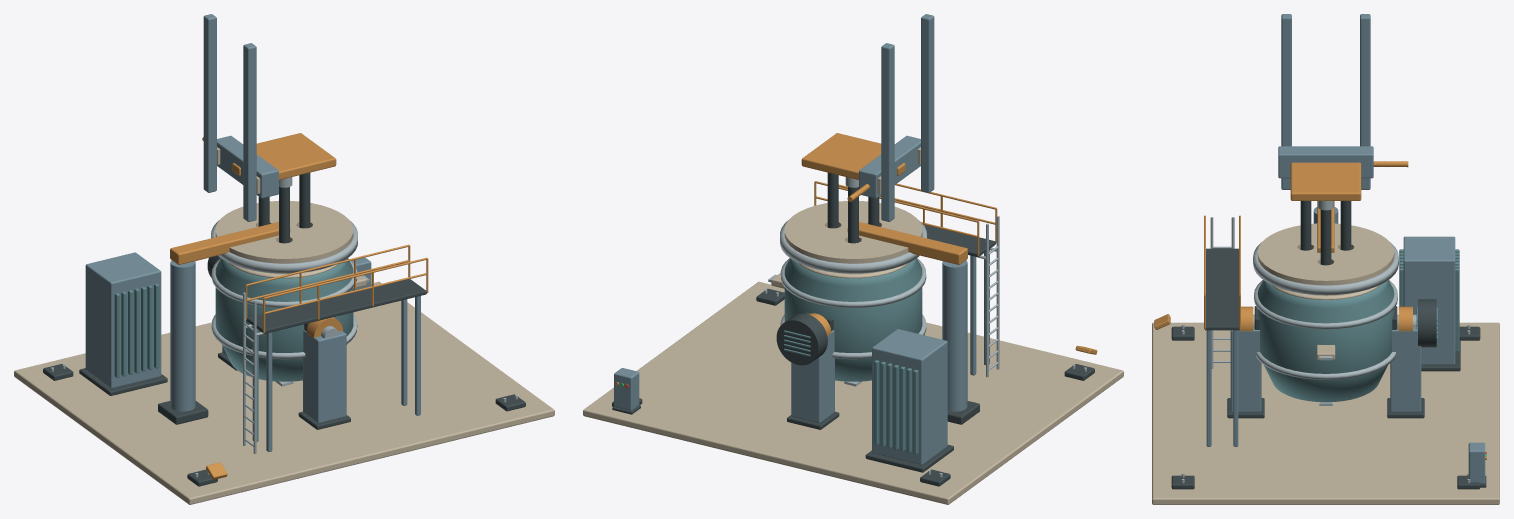
File: STS-HR-02-lod0.glb
3 views of the same model, side by side, from view 1: azimuth 30°, elevation 25°; view 2: azimuth 150°, elevation 25°; view 3: azimuth 270°, elevation 25° (orthographic).
Parts seen in each view (by area): view 1: foundation, refractory_vessel, transformer_cabinet, roof_shell, roof_pivot_column, far_pedestal, eaf_service_deck, roof_electrode_guide_0.95, roof_electrode_guide_-0.95, electrode_carrier, roof_swing_arm, electrode_slide_carriage (+11 smaller); view 2: foundation, refractory_vessel, transformer_cabinet, roof_shell, roof_pivot_column, near_pedestal, roof_electrode_guide_-0.95, roof_electrode_guide_0.95, electrode_carrier, tilt_gearbox, roof_swing_arm, roof_water_jacket (+7 smaller); view 3: foundation, refractory_vessel, roof_shell, transformer_cabinet, electrode_carrier, eaf_service_deck, near_pedestal, far_pedestal, electrode_slide_carriage, roof_water_jacket, roof_electrode_guide_-0.95, roof_electrode_guide_0.95 (+11 smaller).
Part boxes in pixels (left/top/right/bottom): foundation: left=14, top=281, right=554, bottom=504; refractory_vessel: left=215, top=258, right=353, bottom=381; transformer_cabinet: left=85, top=252, right=161, bottom=388; roof_shell: left=215, top=201, right=353, bottom=263; roof_pivot_column: left=170, top=260, right=195, bottom=411; far_pedestal: left=303, top=330, right=346, bottom=423; eaf_service_deck: left=246, top=279, right=426, bottom=333; roof_electrode_guide_0.95: left=243, top=43, right=256, bottom=221; roof_electrode_guide_-0.95: left=203, top=14, right=216, bottom=192; electrode_carrier: left=256, top=133, right=336, bottom=179; roof_swing_arm: left=170, top=222, right=290, bottom=264; electrode_slide_carriage: left=217, top=135, right=278, bottom=198; foundation: left=583, top=281, right=1123, bottom=504; refractory_vessel: left=784, top=258, right=922, bottom=381; transformer_cabinet: left=872, top=329, right=947, bottom=465; roof_shell: left=784, top=201, right=922, bottom=263; roof_pivot_column: left=942, top=260, right=967, bottom=411; near_pedestal: left=791, top=330, right=834, bottom=423; roof_electrode_guide_-0.95: left=881, top=43, right=894, bottom=221; roof_electrode_guide_0.95: left=921, top=14, right=934, bottom=192; electrode_carrier: left=801, top=133, right=881, bottom=179; tilt_gearbox: left=776, top=313, right=827, bottom=365; roof_swing_arm: left=847, top=222, right=967, bottom=264; roof_water_jacket: left=780, top=220, right=926, bottom=273; foundation: left=1152, top=322, right=1499, bottom=504; refractory_vessel: left=1257, top=280, right=1394, bottom=402; roof_shell: left=1257, top=223, right=1394, bottom=285; transformer_cabinet: left=1403, top=236, right=1455, bottom=364; electrode_carrier: left=1290, top=162, right=1361, bottom=200; eaf_service_deck: left=1205, top=248, right=1239, bottom=330; near_pedestal: left=1390, top=327, right=1421, bottom=412; far_pedestal: left=1230, top=327, right=1261, bottom=412; electrode_slide_carriage: left=1278, top=146, right=1373, bottom=178; roof_water_jacket: left=1253, top=242, right=1398, bottom=295; roof_electrode_guide_-0.95: left=1360, top=14, right=1370, bottom=189; roof_electrode_guide_0.95: left=1281, top=14, right=1291, bottom=189.
Bounding box in the file's own units: 10.1 × 10.02 × 8.4.
